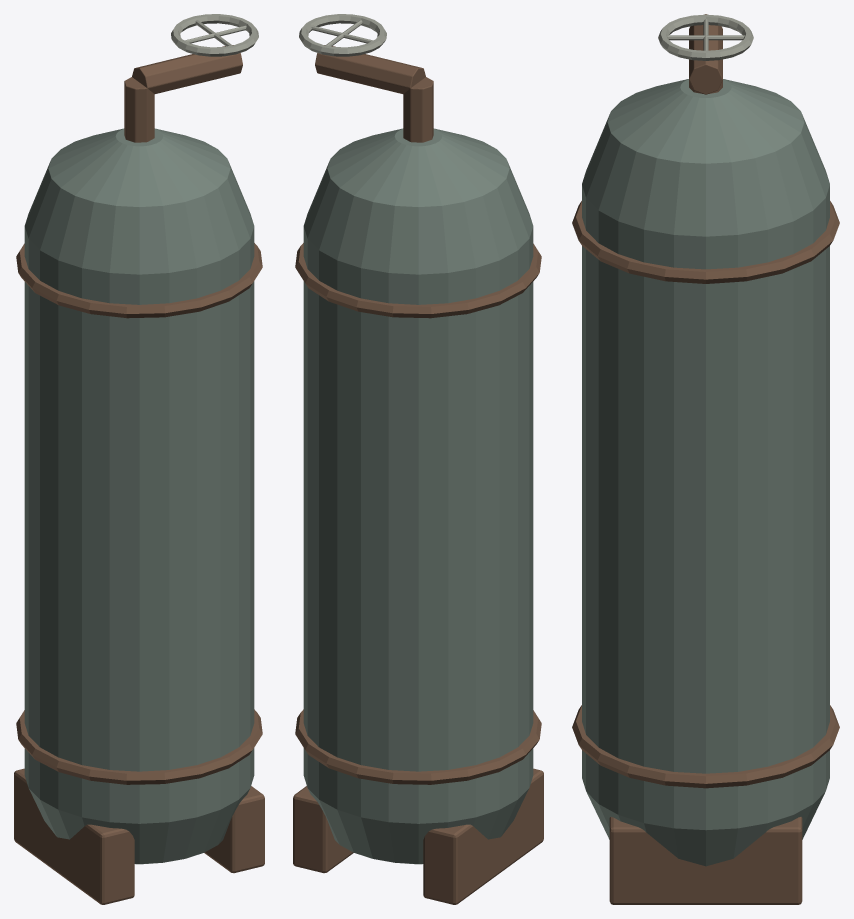
The model's file is tank.glb.
3 renders of one model, left to right at view 1: azimuth 30°, elevation 25°; view 2: azimuth 150°, elevation 25°; view 3: azimuth 270°, elevation 25°, orthographic. The views are drawn at different scales.
Visible parts, largest first — view 1: tank; view 2: tank; view 3: tank.
Part boxes in pixels (left/top/right/bottom): tank: left=14, top=14, right=264, bottom=904; tank: left=293, top=14, right=543, bottom=904; tank: left=572, top=14, right=839, bottom=904.
Size of the model in its own units: 0.645 by 2.24 by 0.626.
